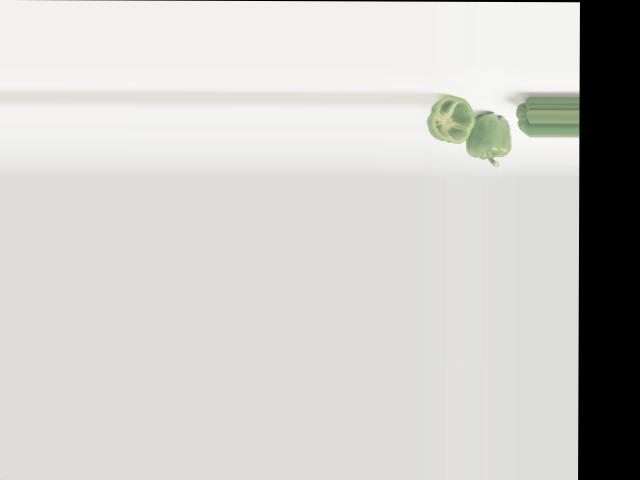bell_pepper: (424, 92, 477, 148)
